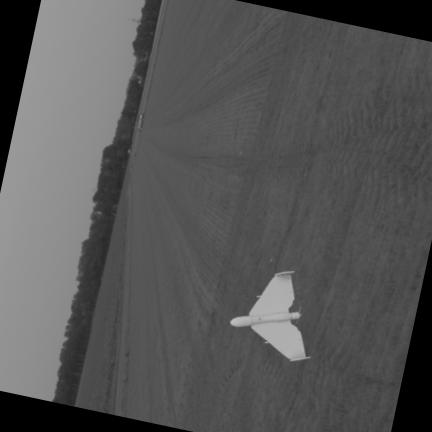Shahed: (230, 271, 310, 360)
